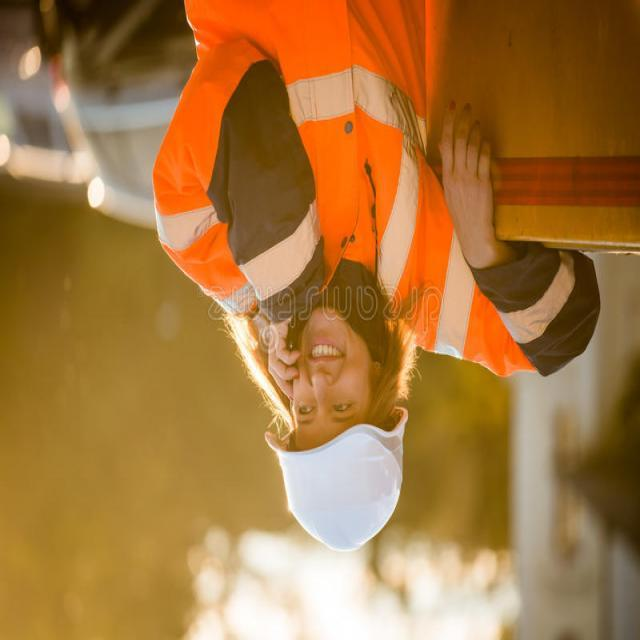safetyhelmet: (265, 362, 404, 558)
